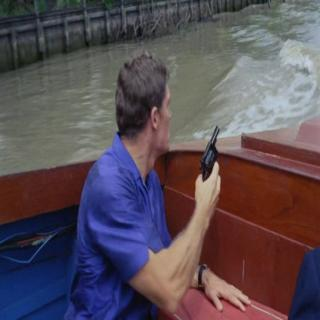gun: (195, 123, 222, 209)
